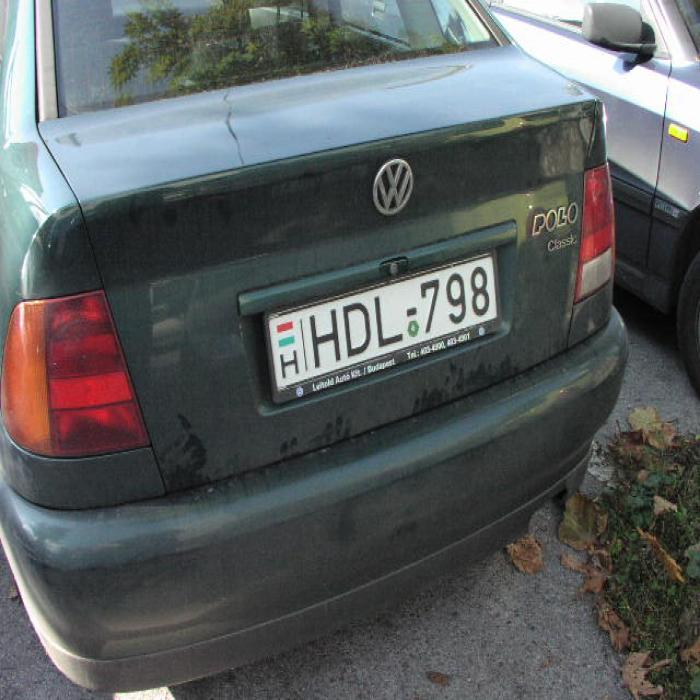number_plate: (275, 258, 492, 391)
